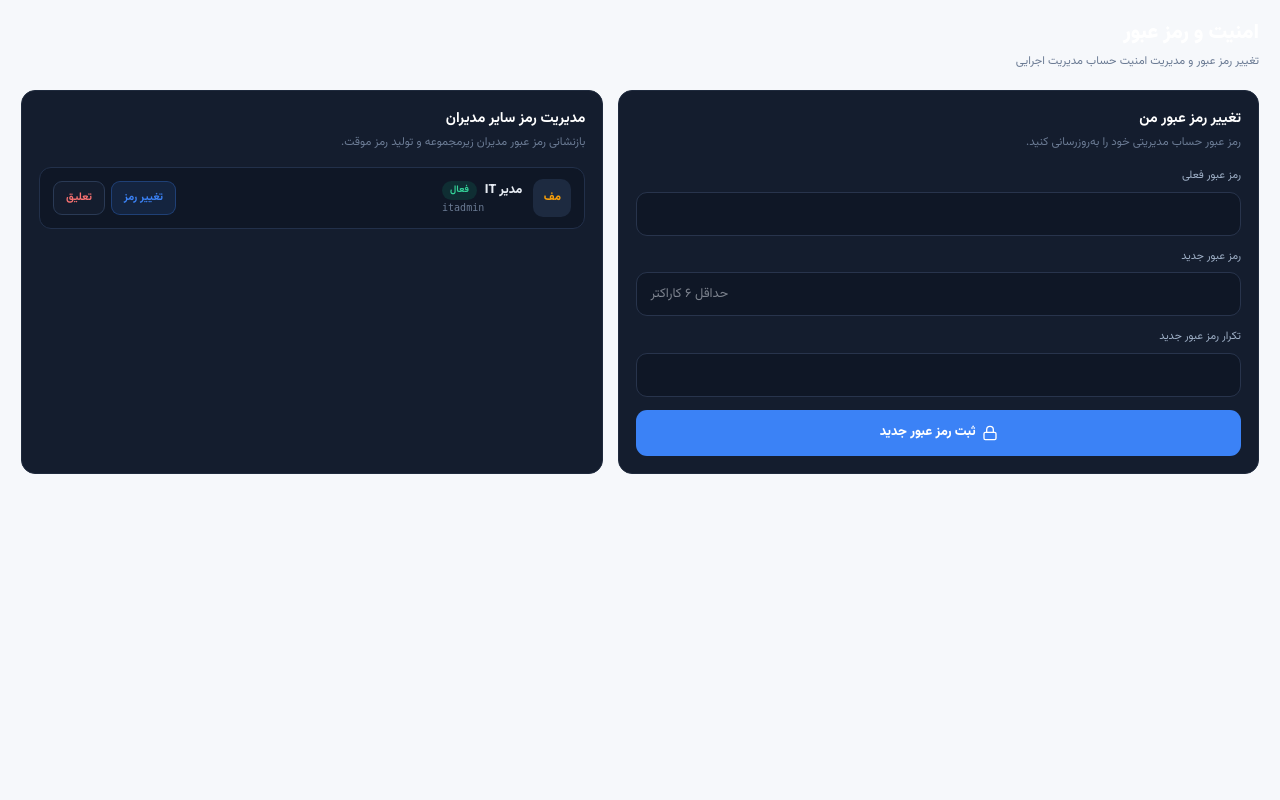
OwnSecurityPage › lets the Board Chair change its own password and reset a managed manager password
This screenshot has width=1280, height=800.
Type "Chair@1405" into the password field labelled "رمز عبور فعلی".
click(939, 214); type("Chair@1405")  # box [636, 192, 1241, 236]
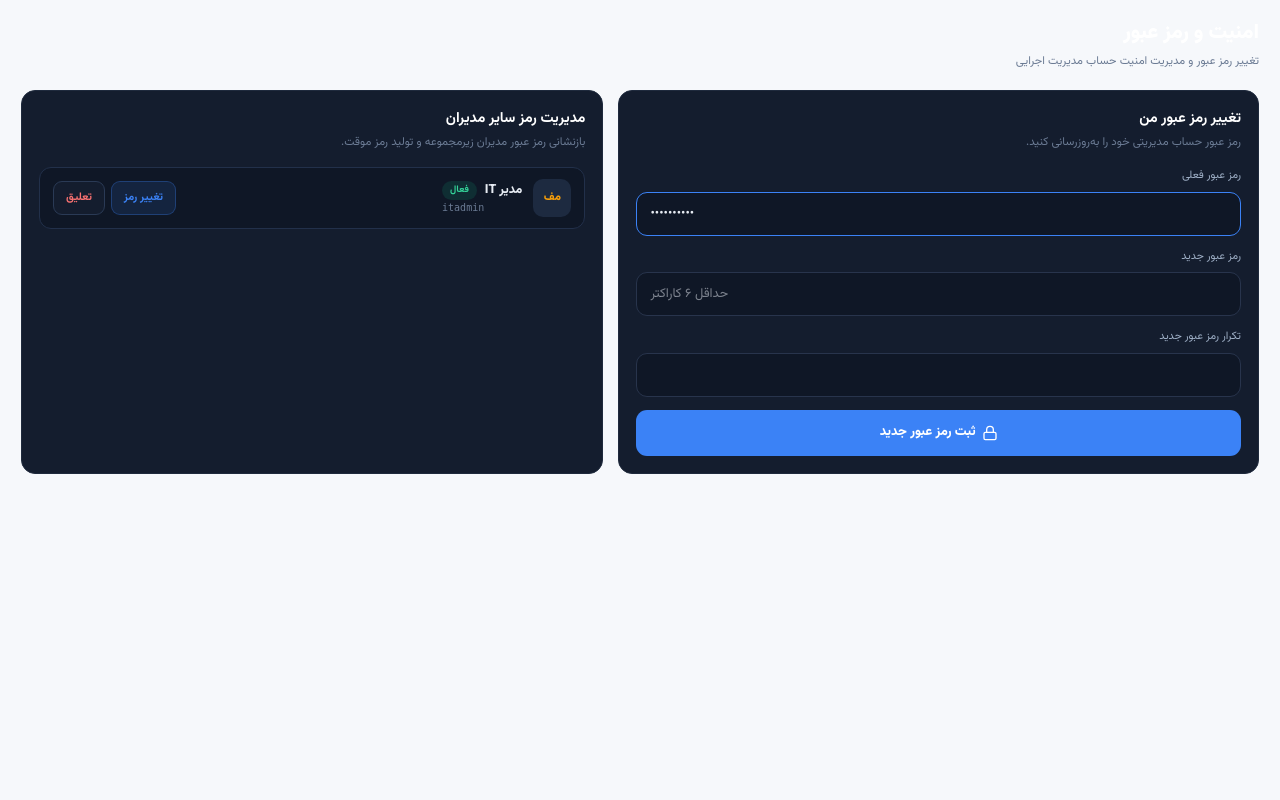
Type "Chair@1406" into the password field labelled "رمز عبور جدید".
click(939, 294); type("Chair@1406")  # box [636, 272, 1241, 316]
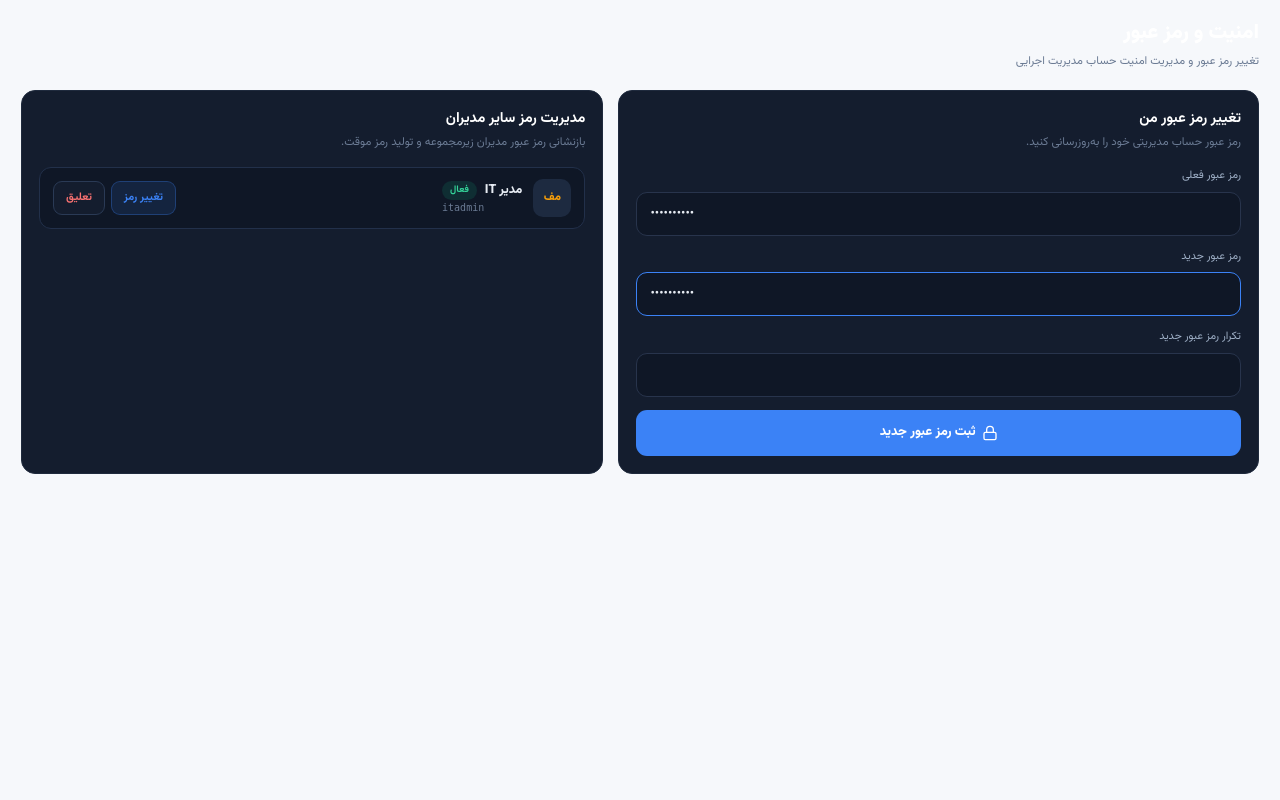
Type "Chair@1406" into the password field labelled "تکرار رمز عبور جدید".
click(939, 374); type("Chair@1406")  # box [636, 352, 1241, 396]
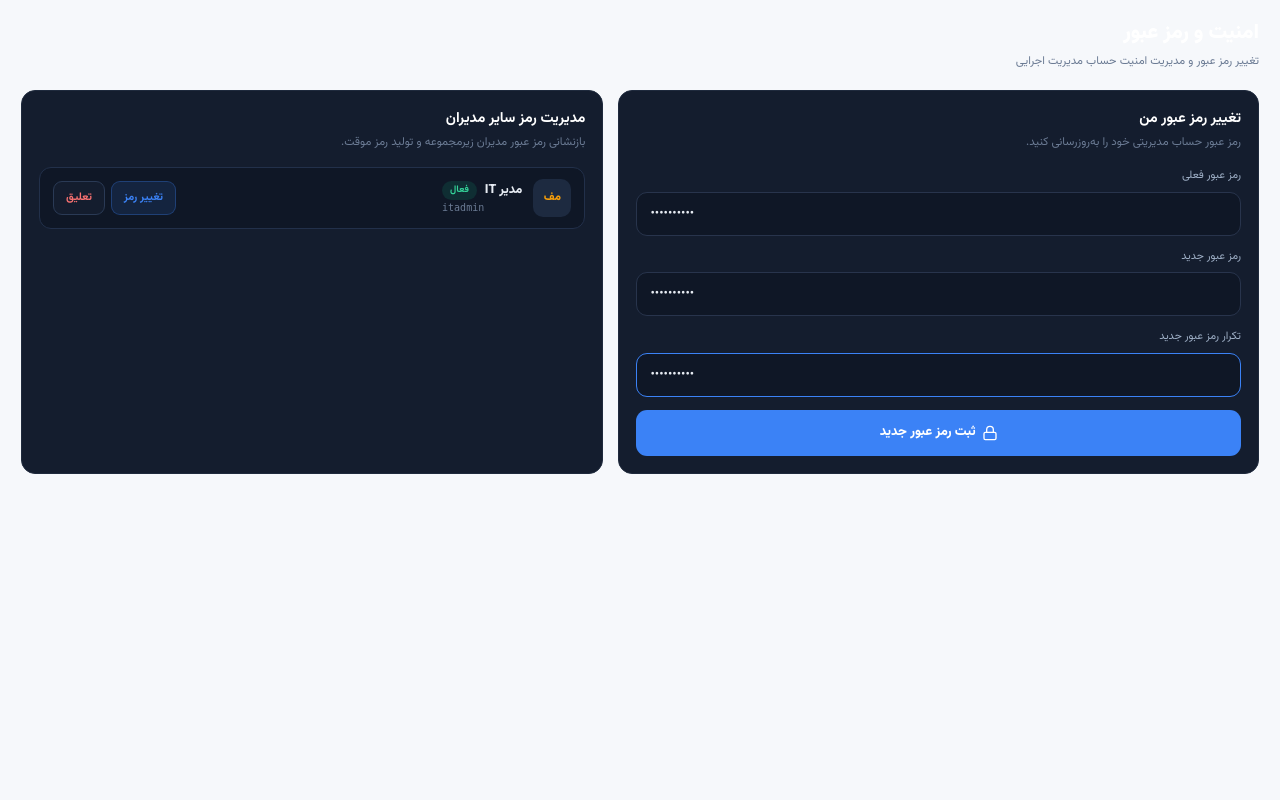
Click the button "ثبت رمز عبور جدید".
click(939, 432)  # box [636, 410, 1241, 456]
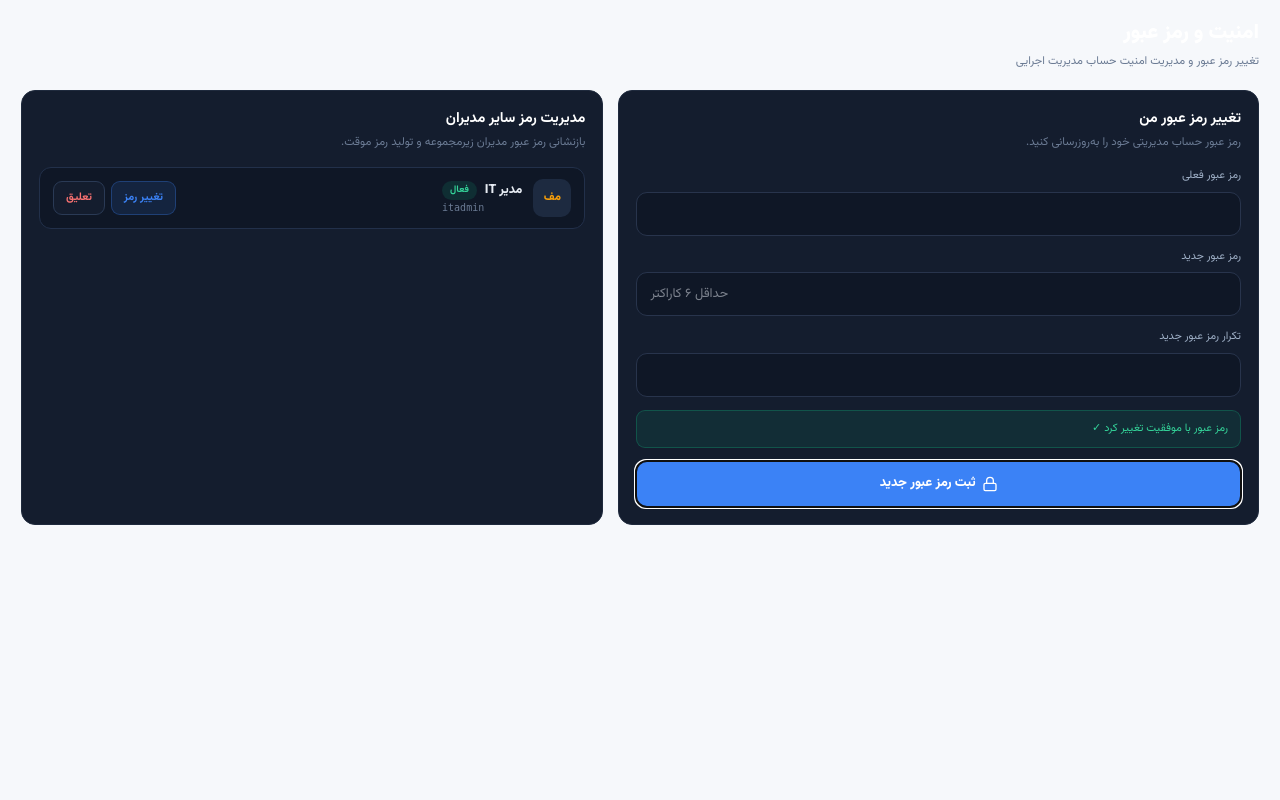
Click the button "تغییر رمز".
click(143, 198)  # box [111, 181, 176, 215]
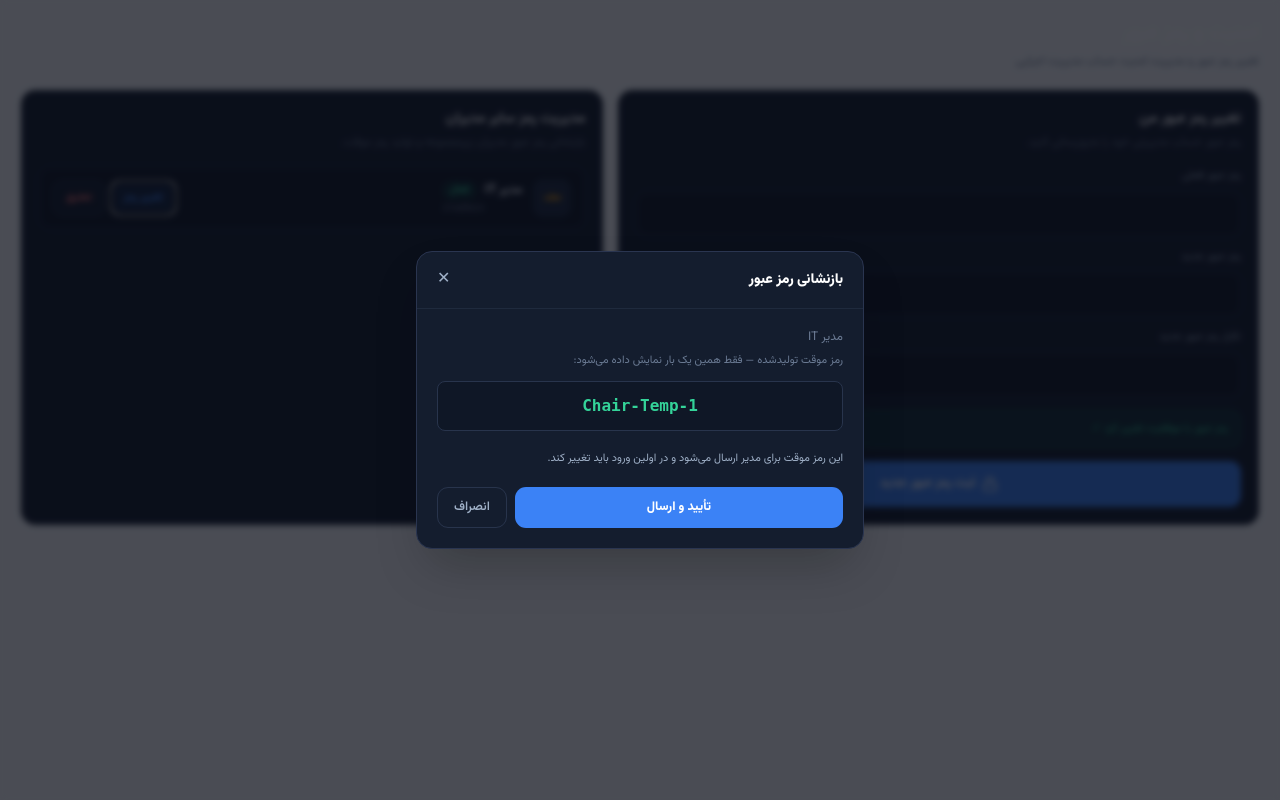
Now the text "Chair-Temp-1" is shown, box [437, 381, 843, 431]
